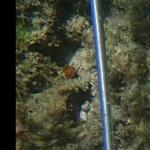dead: (1, 22, 140, 129)
